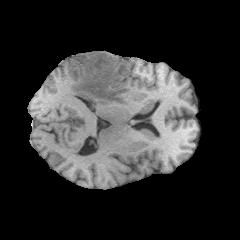glioma: (70, 51, 130, 105)
